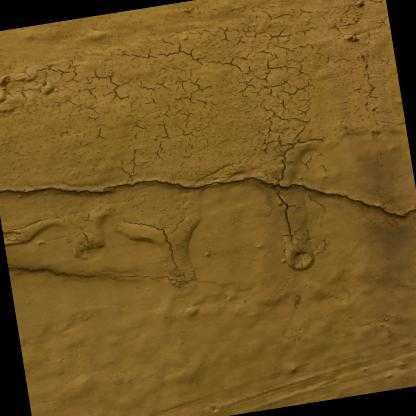crack: (0, 174, 416, 218)
